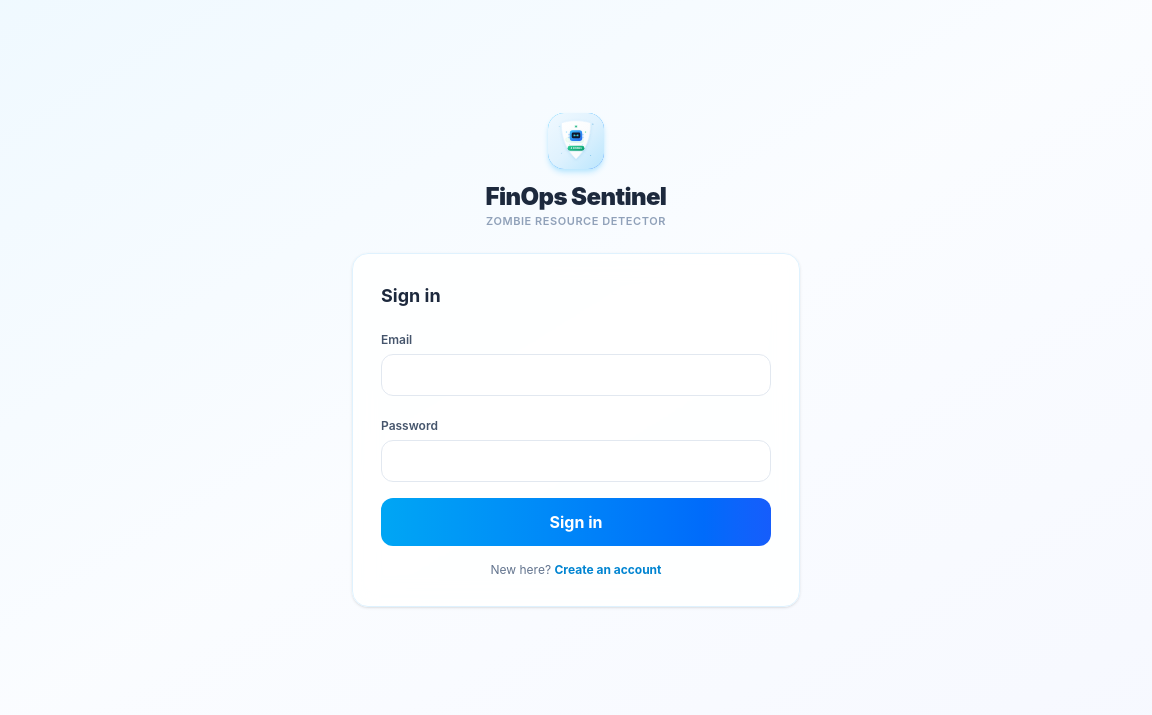
Test: role-based UI › admins see the scheduler control and can edit the policy
This screenshot has width=1152, height=715.
Type "admin@example.com" into the field labelled "Email" at (576, 375), box [381,354,771,396]
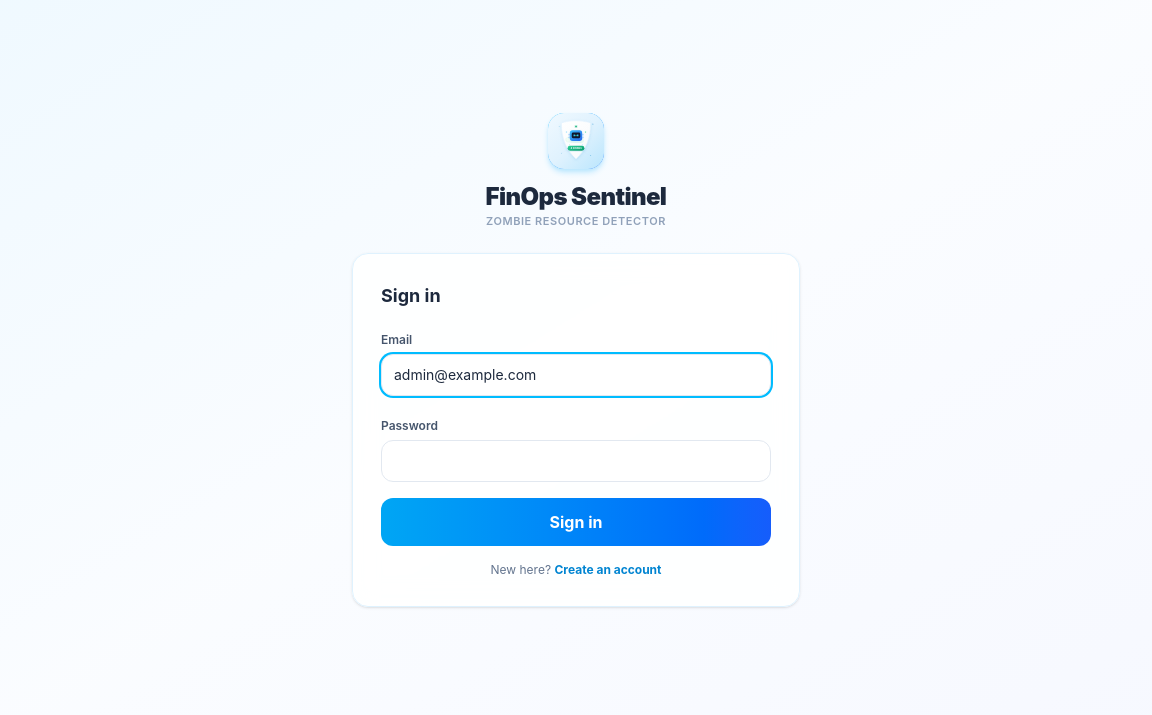
Type "adminpass1" into the password field labelled "Password" at (576, 461), box [381,440,771,482]
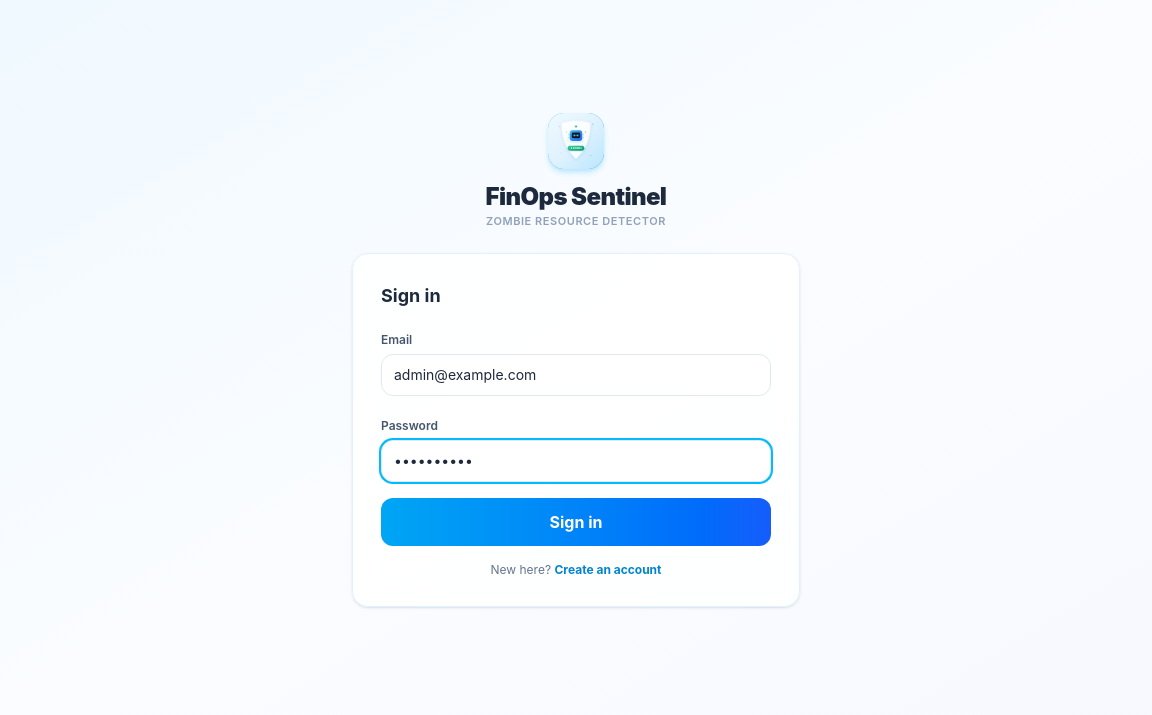
Click the button "Sign in" at (576, 522), box [381,498,771,546]
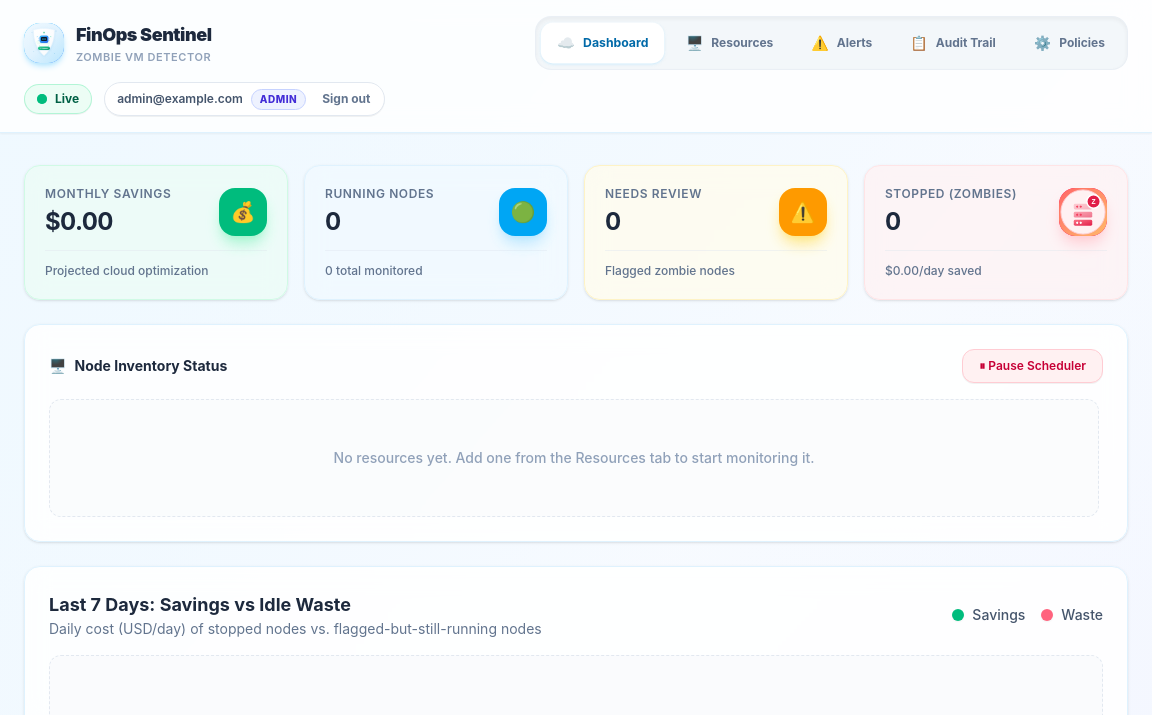
expect the button "⏸ Pause Scheduler" is shown: met, box [962,349,1103,383]
Click the button "⚙️ Policies" at (1069, 43), box [1018,23,1121,63]
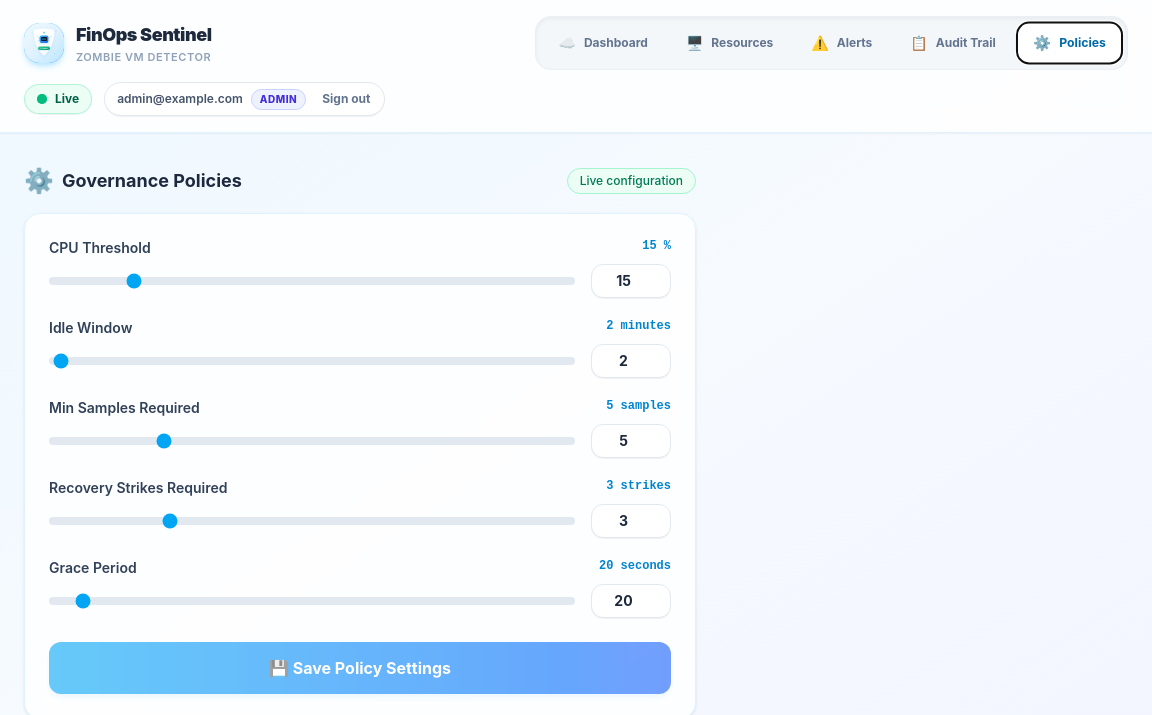
expect the button "💾 Save Policy Settings" is disabled: met, box [49,642,671,694]
Replace the text in the number field below "15" with "25" at (631, 281), box [591,264,671,298]
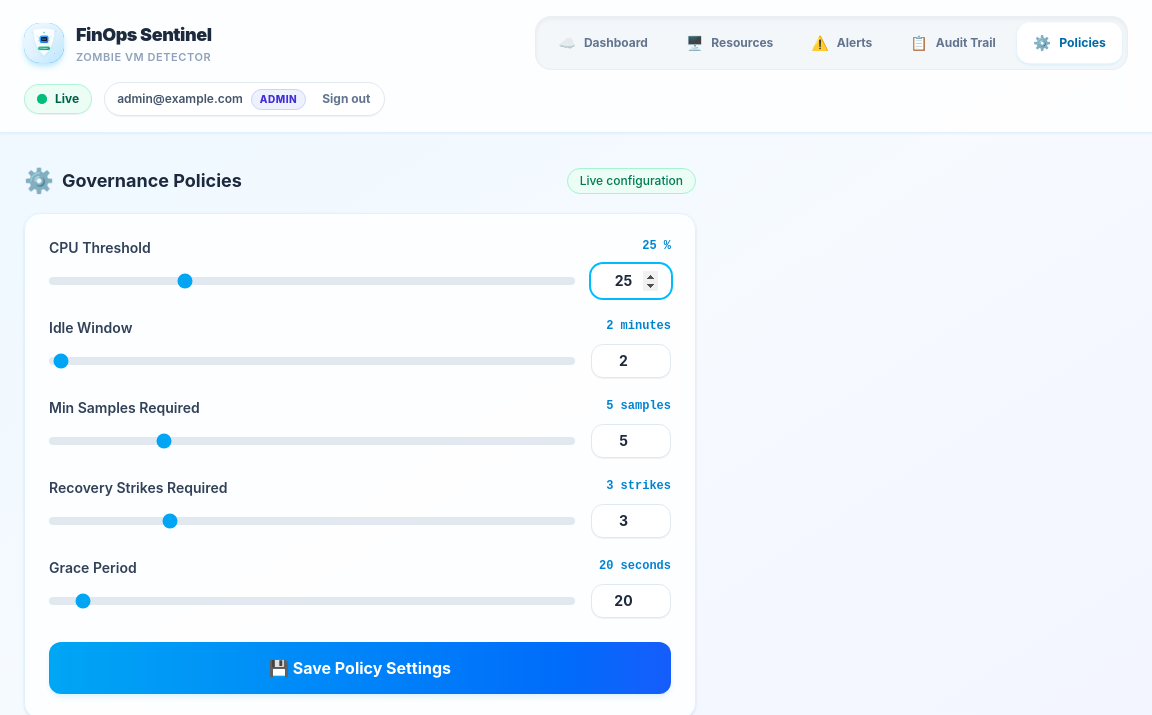
Click the button "💾 Save Policy Settings" at (360, 668), box [49,642,671,694]
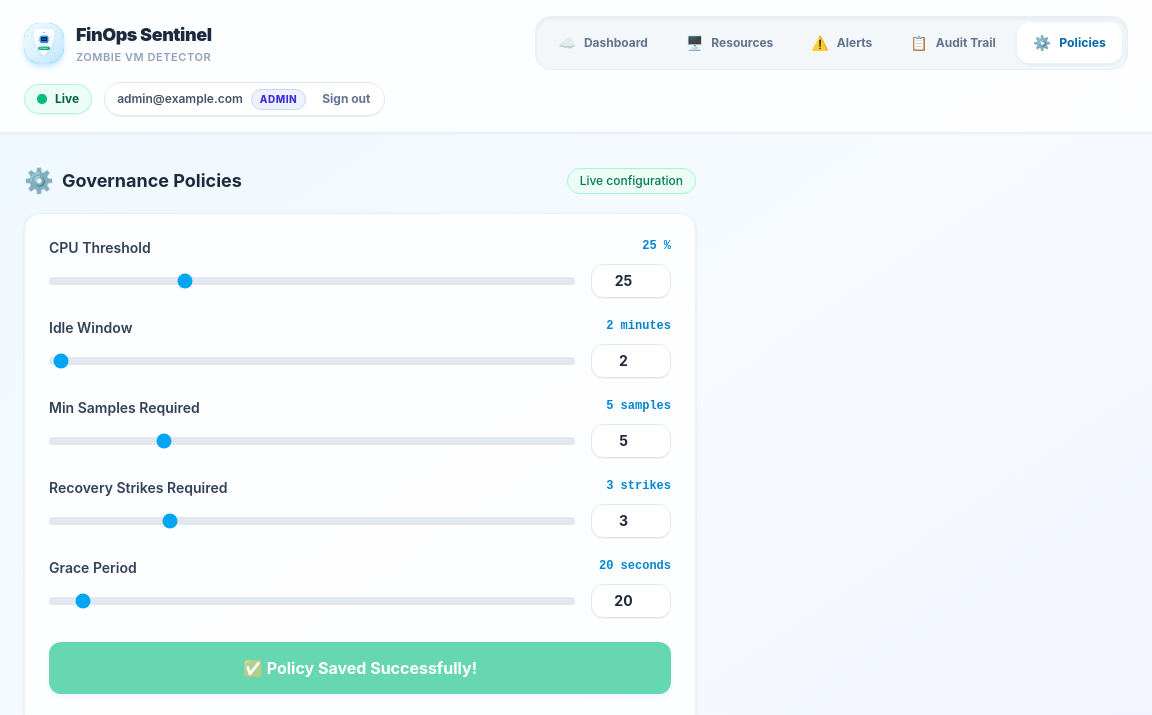
expect the text "admin@example.com" is shown: met, box [117,91,243,107]
expect the button "✅ Policy Saved Successfully!" is shown: met, box [49,642,671,694]
